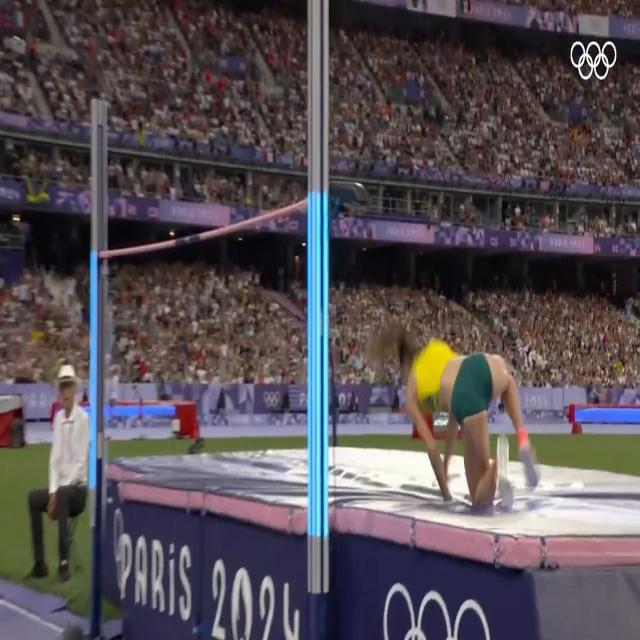land: (398, 332, 540, 502)
